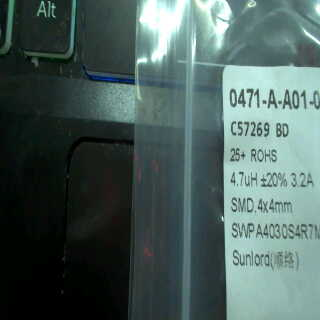4.7uH: (228, 170, 261, 188)
